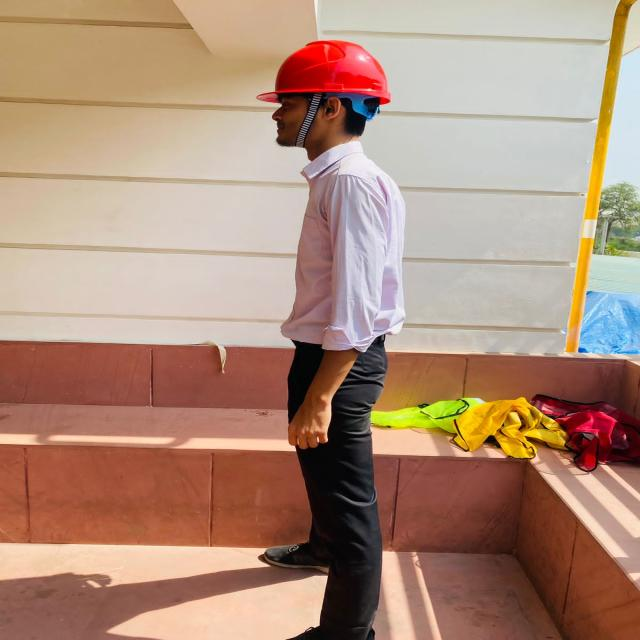no jacket: (261, 40, 397, 640)
